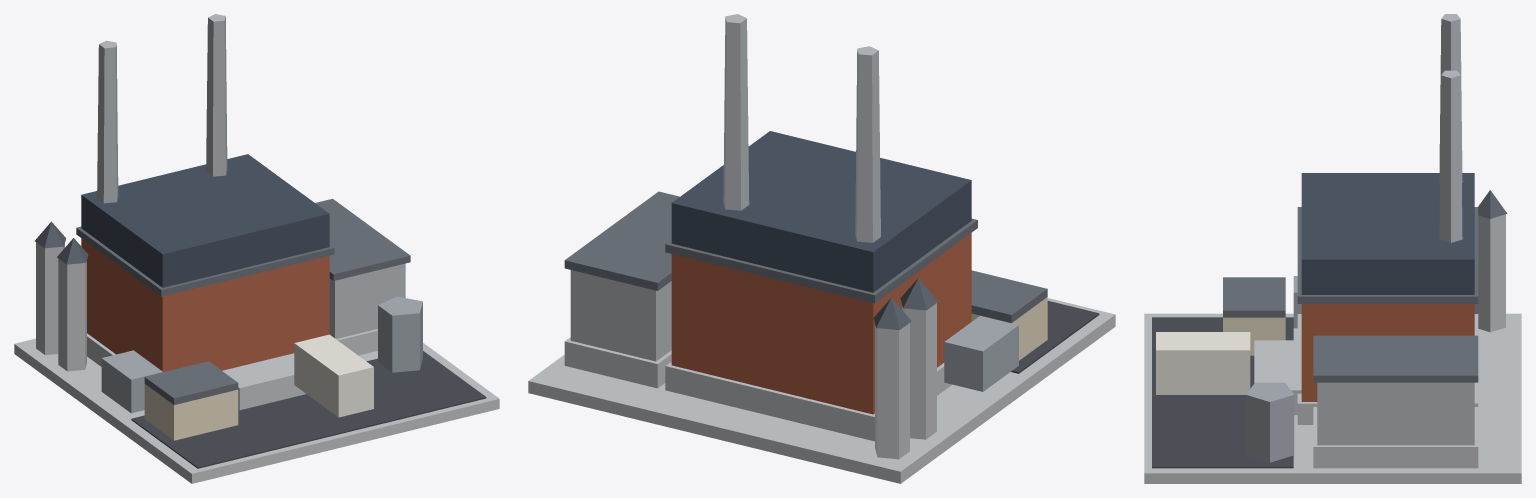
3 views of the same model, side by side, from view 1: azimuth 30°, elevation 25°; view 2: azimuth 150°, elevation 25°; view 3: azimuth 270°, elevation 25° (orthographic). The views are drawn at different scales.
Parts seen in each view (by area): view 1: b38_v2_lod2; view 2: b38_v2_lod2; view 3: b38_v2_lod2.
Boxes of the visible parts, left/top/right/bottom form: b38_v2_lod2: left=14, top=14, right=499, bottom=483; b38_v2_lod2: left=528, top=14, right=1115, bottom=483; b38_v2_lod2: left=1144, top=14, right=1521, bottom=483.
Bounding box in the file's own units: 0.96 × 0.95 × 0.96.
